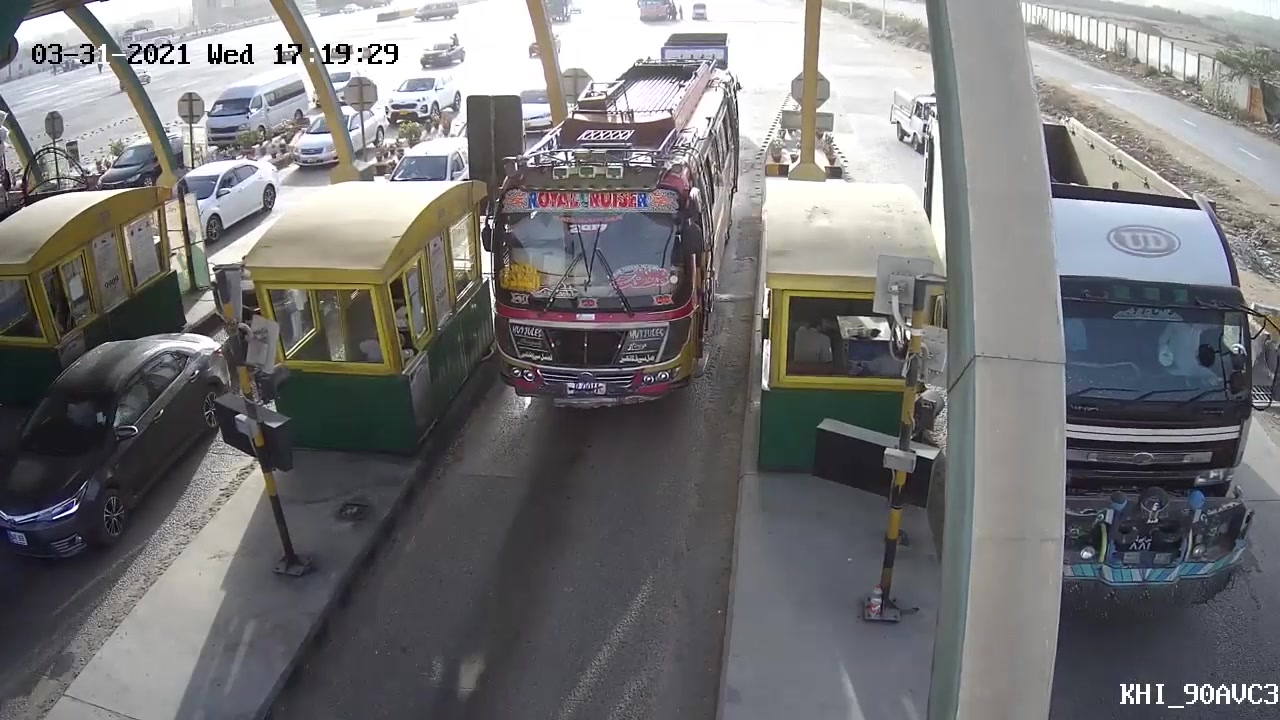F4: (479, 34, 752, 427)
